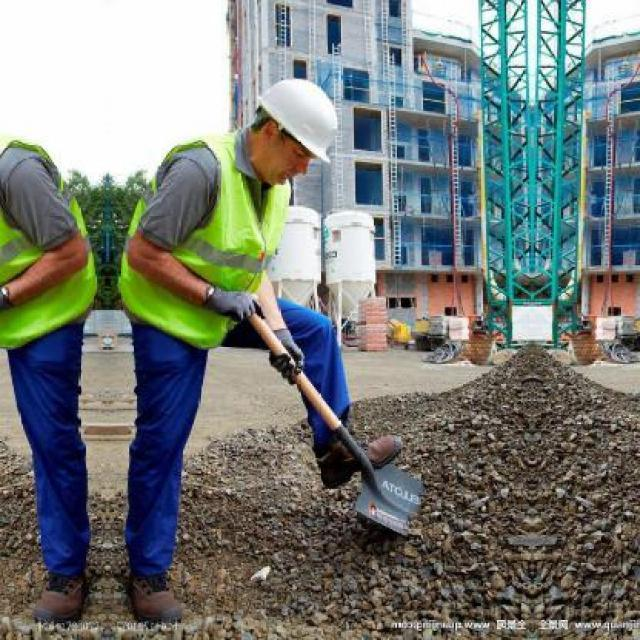Reflective-Jacket: (111, 131, 297, 347), (0, 116, 100, 350)
Safety-Helmet: (249, 71, 348, 166)
